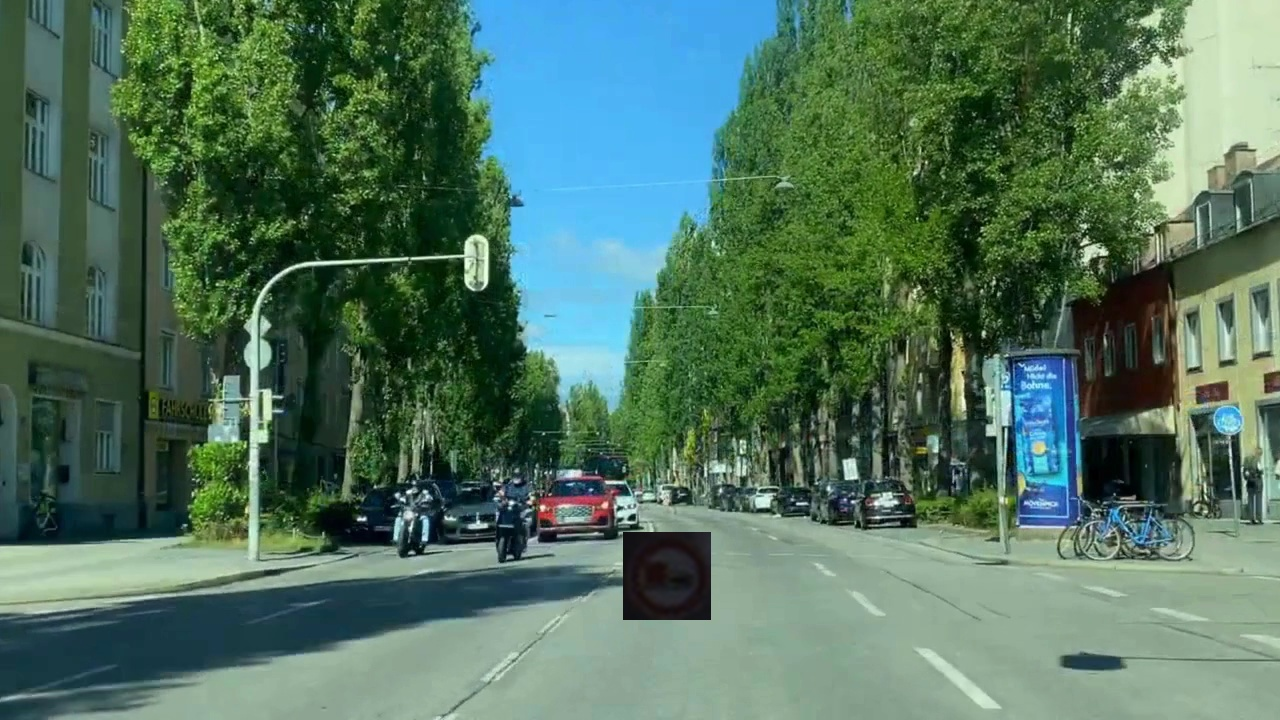No pass >3.5t: (623, 532, 711, 620)
